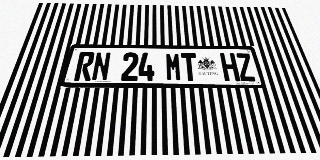2: (121, 52, 139, 81)
4: (138, 52, 154, 81)
H: (220, 53, 241, 81)
M: (165, 53, 182, 81)
N: (91, 52, 111, 81)
R: (74, 52, 95, 81)
T: (181, 53, 199, 81)
Z: (235, 53, 257, 81)
